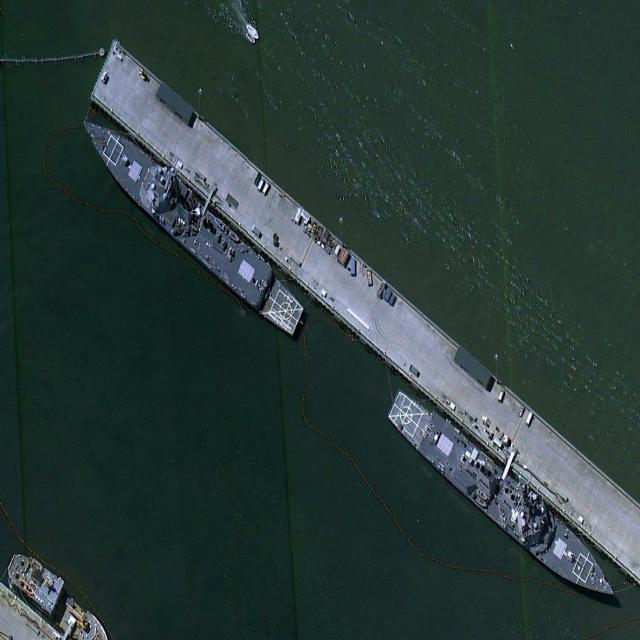Destroyer: (384, 381, 622, 616), (73, 104, 309, 337)
